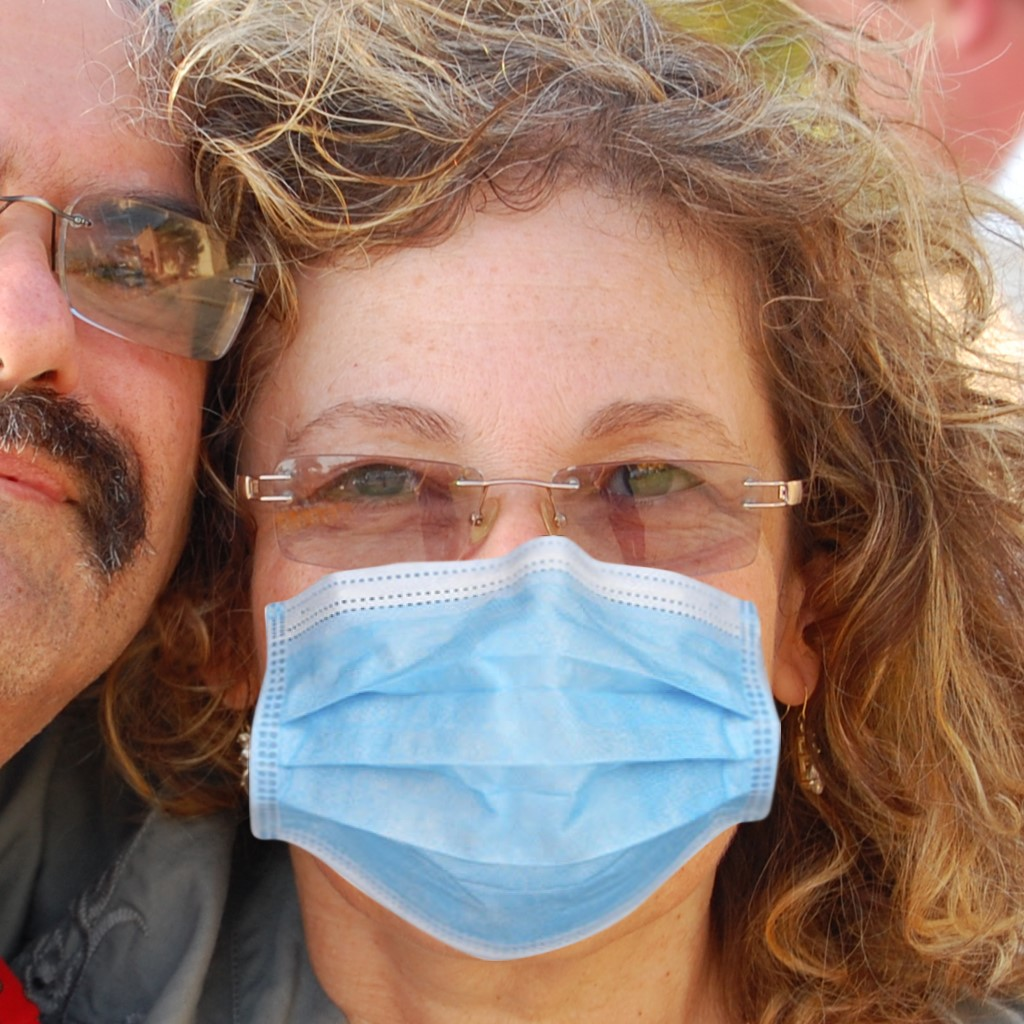con_mascara: (193, 167, 823, 951)
